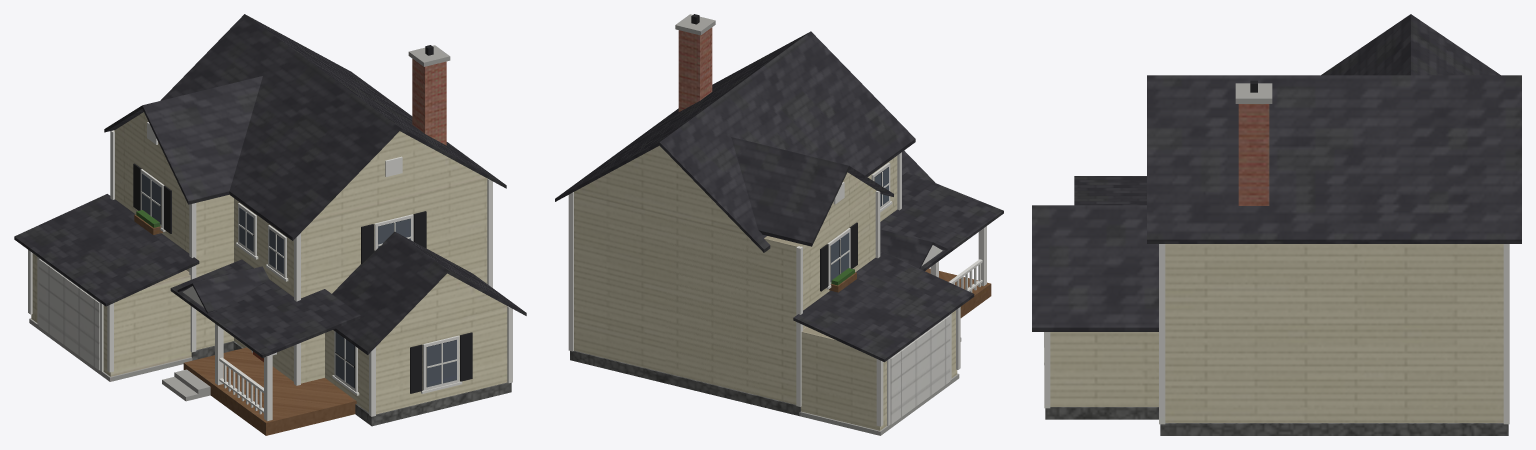
File: house_03.glb
3 renders of one model, left to right at view 1: azimuth 30°, elevation 25°; view 2: azimuth 150°, elevation 25°; view 3: azimuth 270°, elevation 25°, orthographic. The views are drawn at different scales.
Parts seen in each view (by area): view 1: house_03; view 2: house_03; view 3: house_03.
Boxes of the visible parts, left/top/right/bottom form: house_03: left=14, top=14, right=526, bottom=435; house_03: left=555, top=14, right=1003, bottom=435; house_03: left=1032, top=14, right=1521, bottom=435.
Bounding box in the file's own units: 12.3 × 9.8 × 12.8.
Materials: 1 (1 with a texture image).
